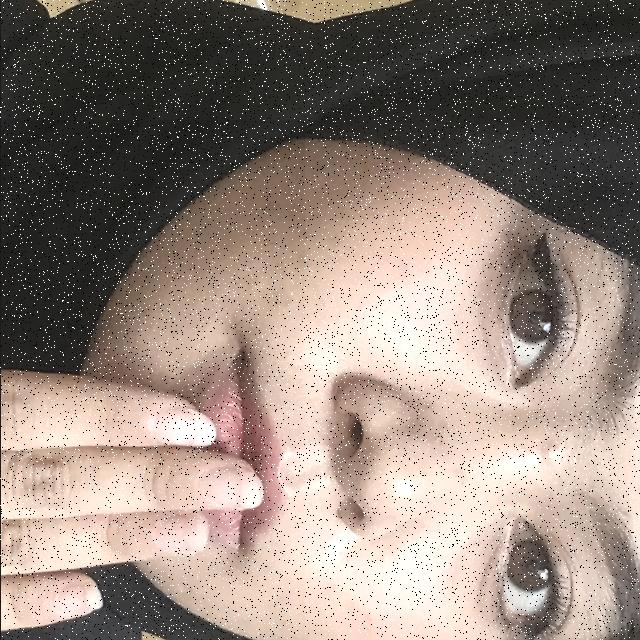ganteng: (0, 120, 304, 640)
